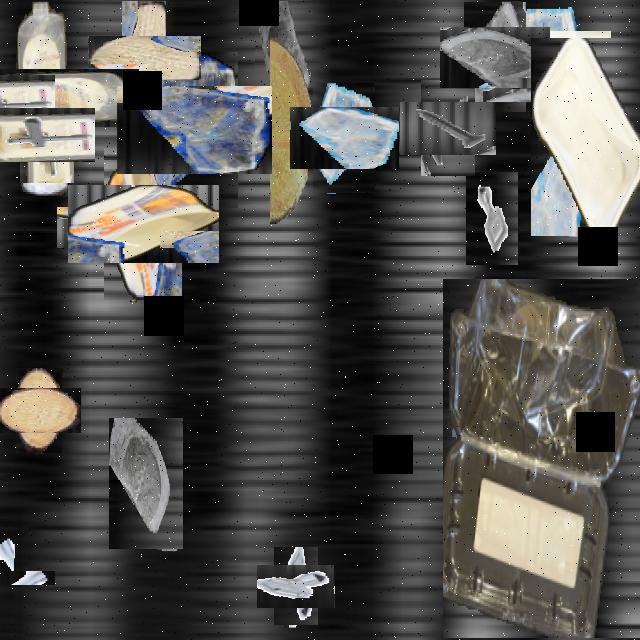glass: (133, 69, 255, 191), (540, 441, 640, 546), (497, 16, 597, 116), (109, 418, 183, 549), (301, 96, 387, 182), (452, 14, 538, 100), (255, 1, 319, 116)
metal: (410, 90, 486, 166), (10, 98, 84, 172), (466, 172, 518, 265), (266, 556, 326, 617), (66, 198, 124, 257), (0, 550, 34, 605)
plastic: (443, 279, 640, 638), (531, 38, 640, 236), (86, 166, 200, 282), (0, 35, 105, 160)
wood: (234, 75, 346, 188), (104, 19, 184, 98), (6, 378, 72, 443)
